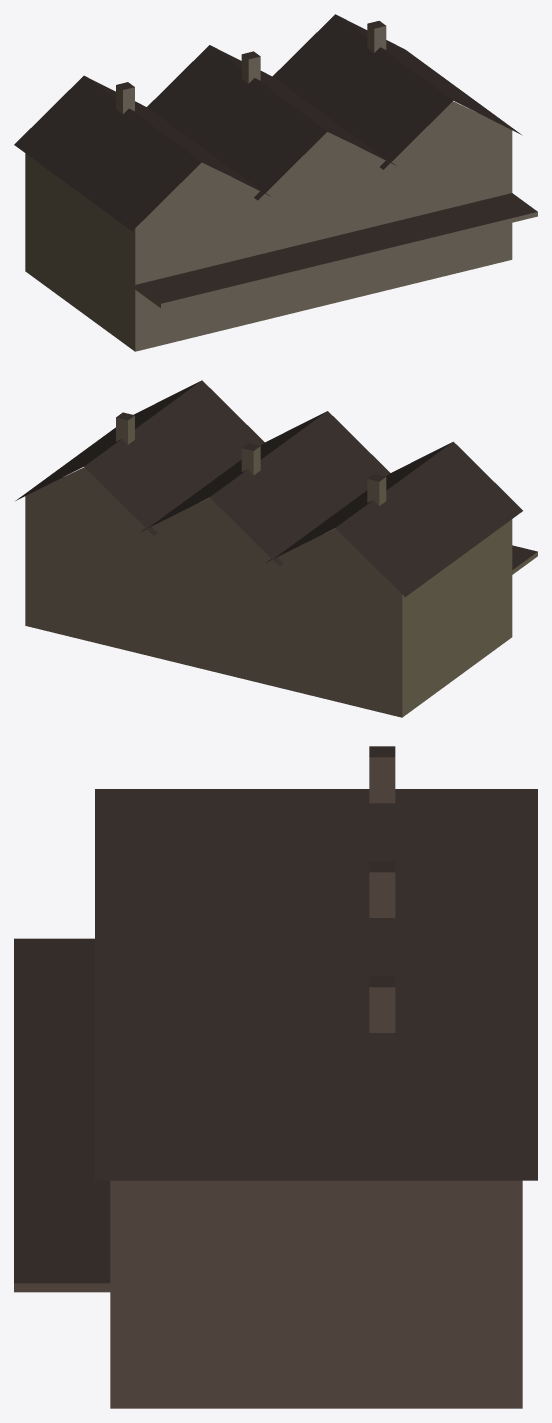
Rendered from mh-worker-row.far-facades-v3.lod2.glb.
3 views of the same model, one above another, from view 1: azimuth 30°, elevation 25°; view 2: azimuth 150°, elevation 25°; view 3: azimuth 270°, elevation 25° (orthographic). The views are drawn at different scales.
Parts seen in each view (by area): view 1: mh-worker-row; view 2: mh-worker-row; view 3: mh-worker-row.
Part boxes in pixels (x1=…): mh-worker-row: x1=14, y1=14, x2=537, y2=351; mh-worker-row: x1=15, y1=380, x2=537, y2=717; mh-worker-row: x1=14, y1=746, x2=537, y2=1408.
Bounding box in the file's own units: 19.3 × 9.3 × 11.95.
